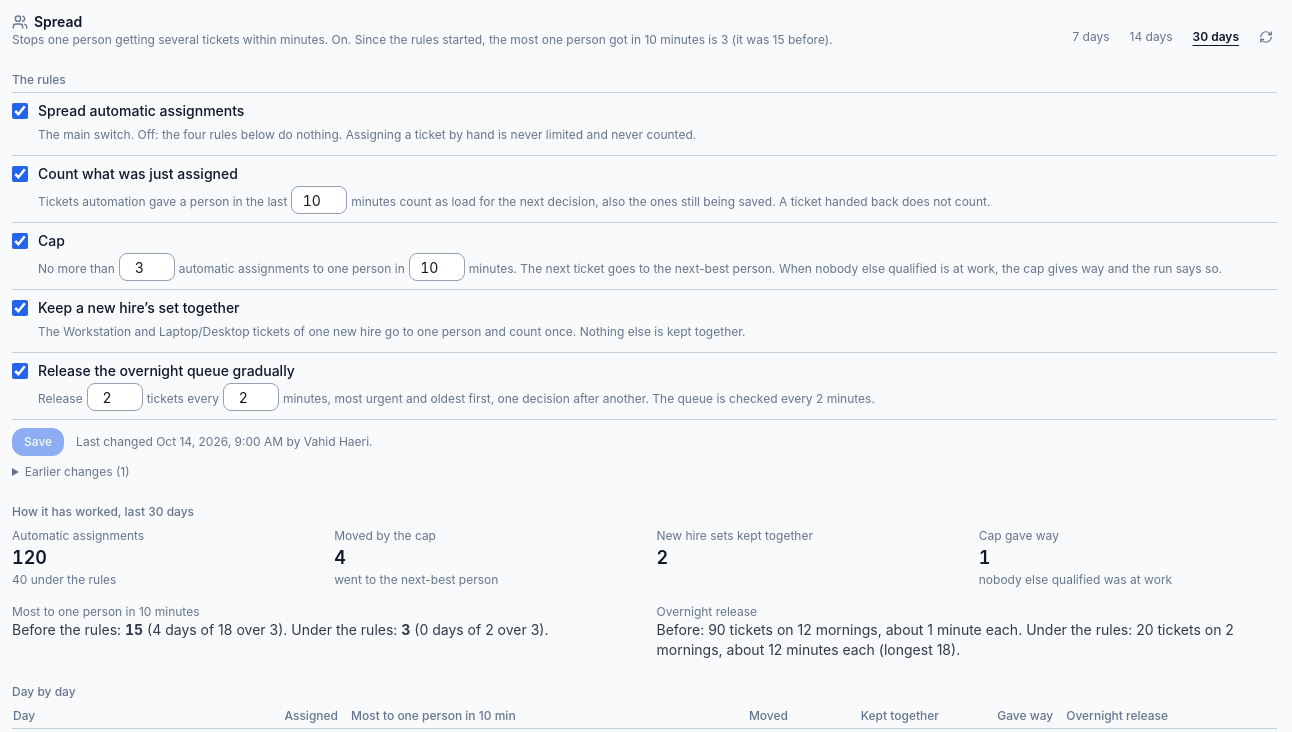
Test case: SpreadTab › turning the main switch off greys out the four rules
Step 1. Click the checkbox labelled "Spread automatic assignments" → click(20, 111), box [12,103,28,119]
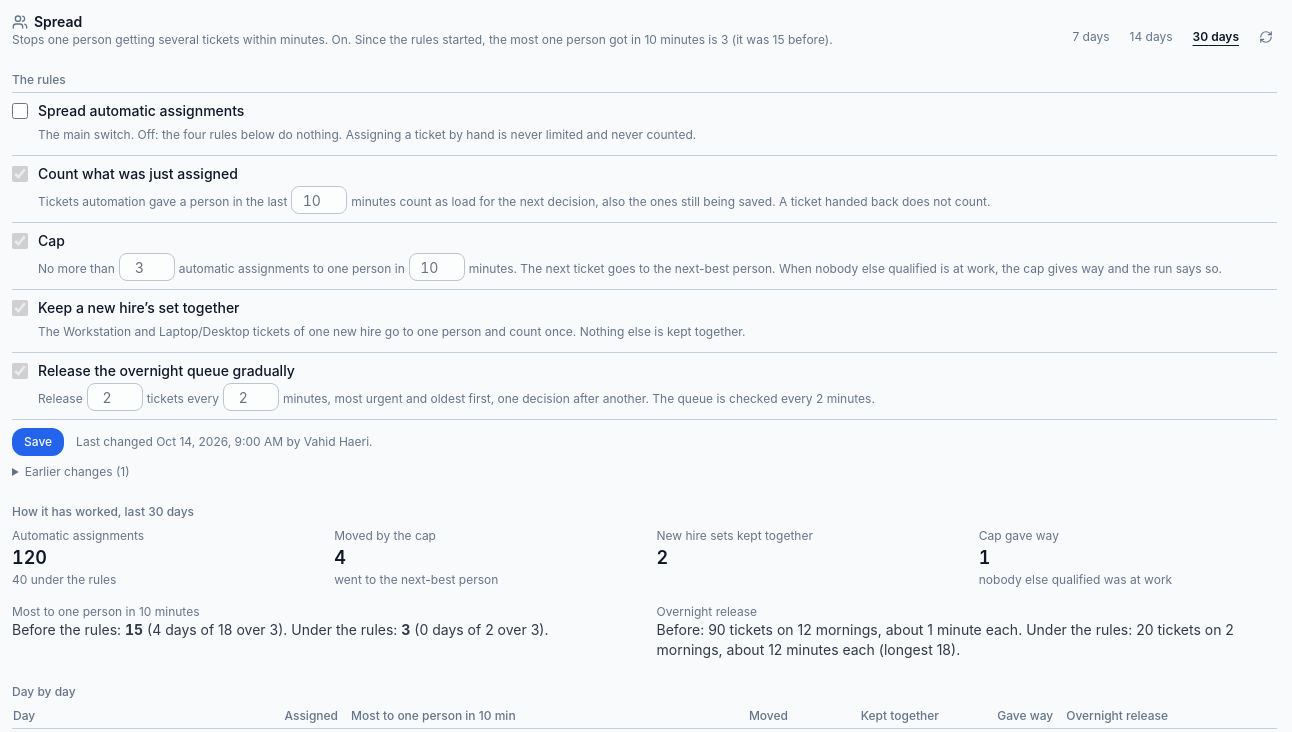
Check: the checkbox labelled "Cap" is disabled, box [12,233,28,249]
Check: the number field named "Cap in tickets" is disabled, box [119,253,175,281]
Check: the checkbox labelled "Release the overnight queue gradually" is disabled, box [12,363,28,379]
